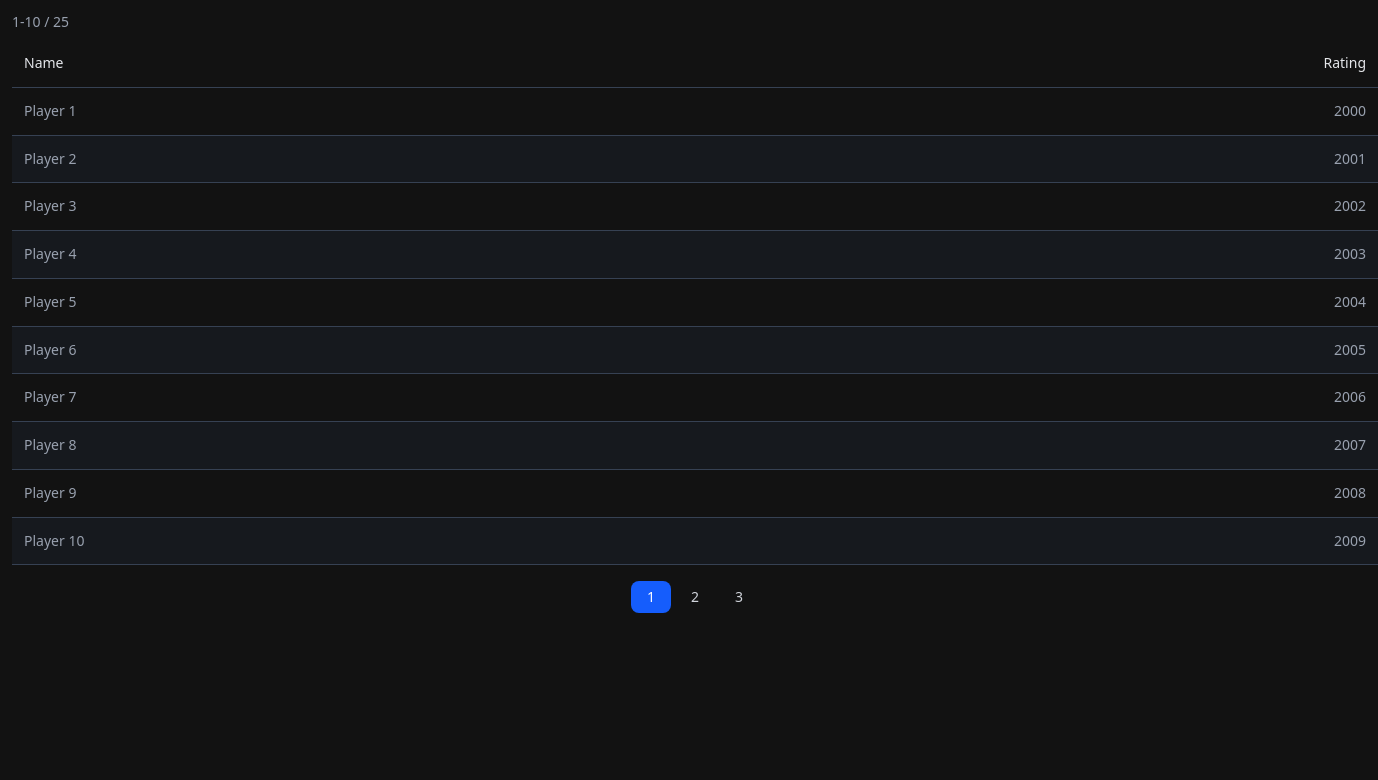
it: Table pagination › navigates between pages
Step 1. Click the button "3" → coordinates (739, 597), box [719,581,759,613]
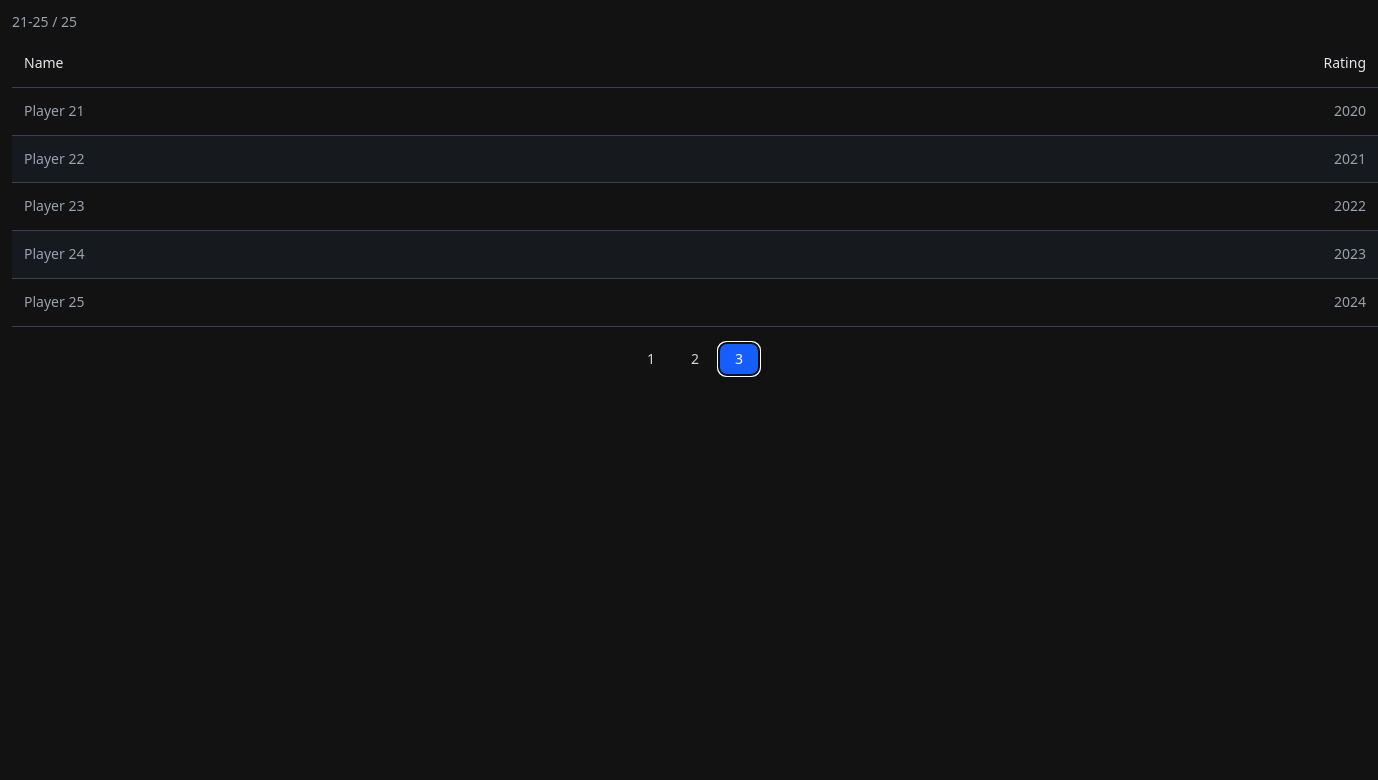
Result: the text "21-25 / 25" is shown at [12,12,77,31]
